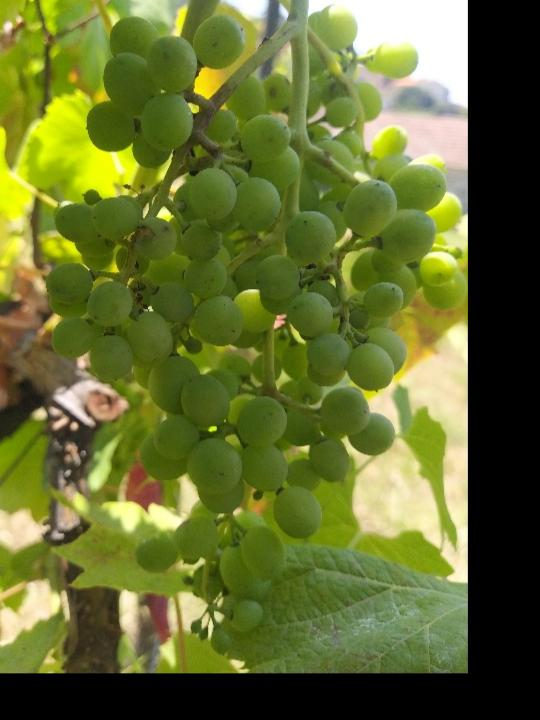grape: (40, 2, 464, 655)
